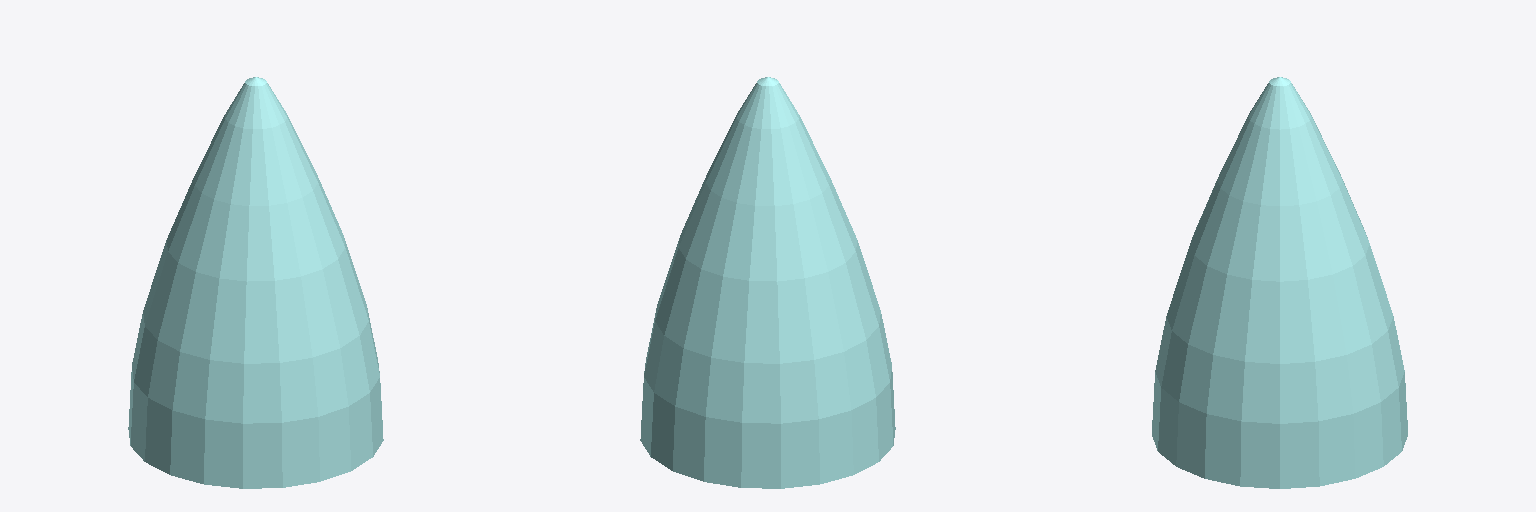
The model's file is bullet_silver.obj.
The picture shows the model from 3 angles: view 1: azimuth 30°, elevation 25°; view 2: azimuth 150°, elevation 25°; view 3: azimuth 270°, elevation 25°; orthographic projection.
Parts seen in each view (by area): view 1: bullet_silver1; view 2: bullet_silver1; view 3: bullet_silver1.
Part boxes in pixels (x1,y1,x2,y2): bullet_silver1: (128, 77, 383, 488); bullet_silver1: (640, 77, 895, 488); bullet_silver1: (1152, 77, 1407, 488).
Size of the model in its own units: 1.84 by 2.83 by 1.84.